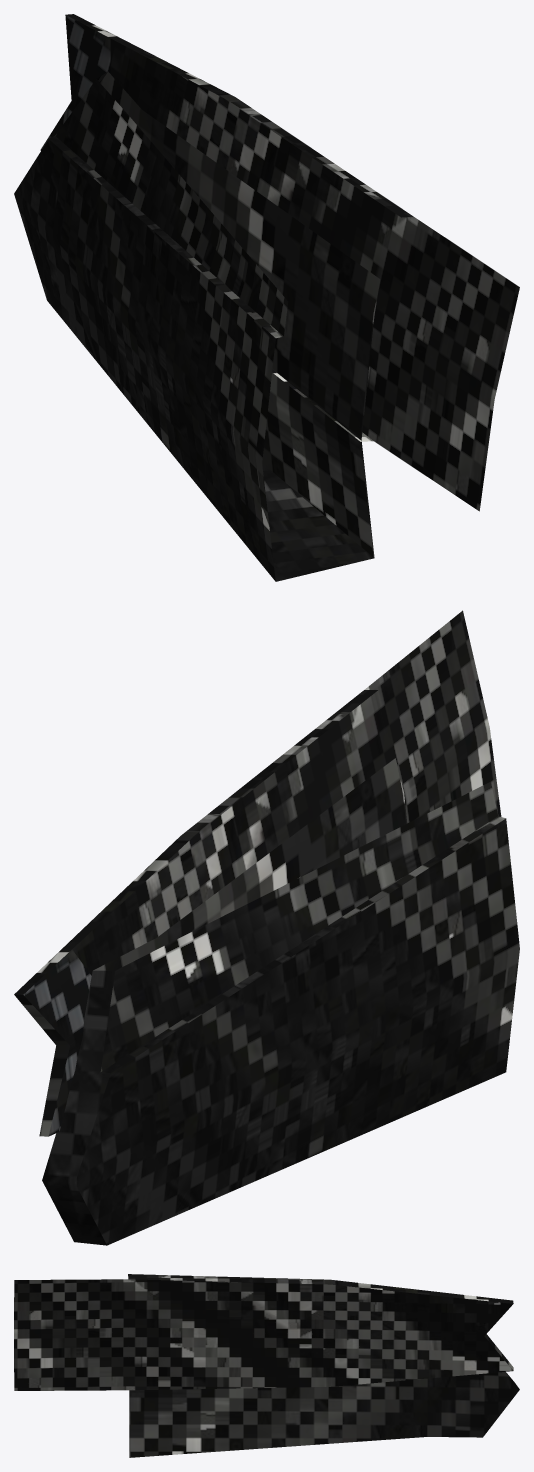
3 renders of one model, top to bottom at view 1: azimuth 30°, elevation 25°; view 2: azimuth 150°, elevation 25°; view 3: azimuth 270°, elevation 25°, orthographic. The views are drawn at different scales.
Parts seen in each view (by area): view 1: engine_blade_13_f35_ext_3_0; view 2: engine_blade_13_f35_ext_3_0; view 3: engine_blade_13_f35_ext_3_0.
Part boxes in pixels (x1,y1,x2,y2): engine_blade_13_f35_ext_3_0: (14, 14, 519, 581); engine_blade_13_f35_ext_3_0: (14, 610, 519, 1245); engine_blade_13_f35_ext_3_0: (14, 1274, 519, 1457).
Bounding box in the file's own units: 16.38 × 33.57 × 80.62.
1 material, 1 textured.
